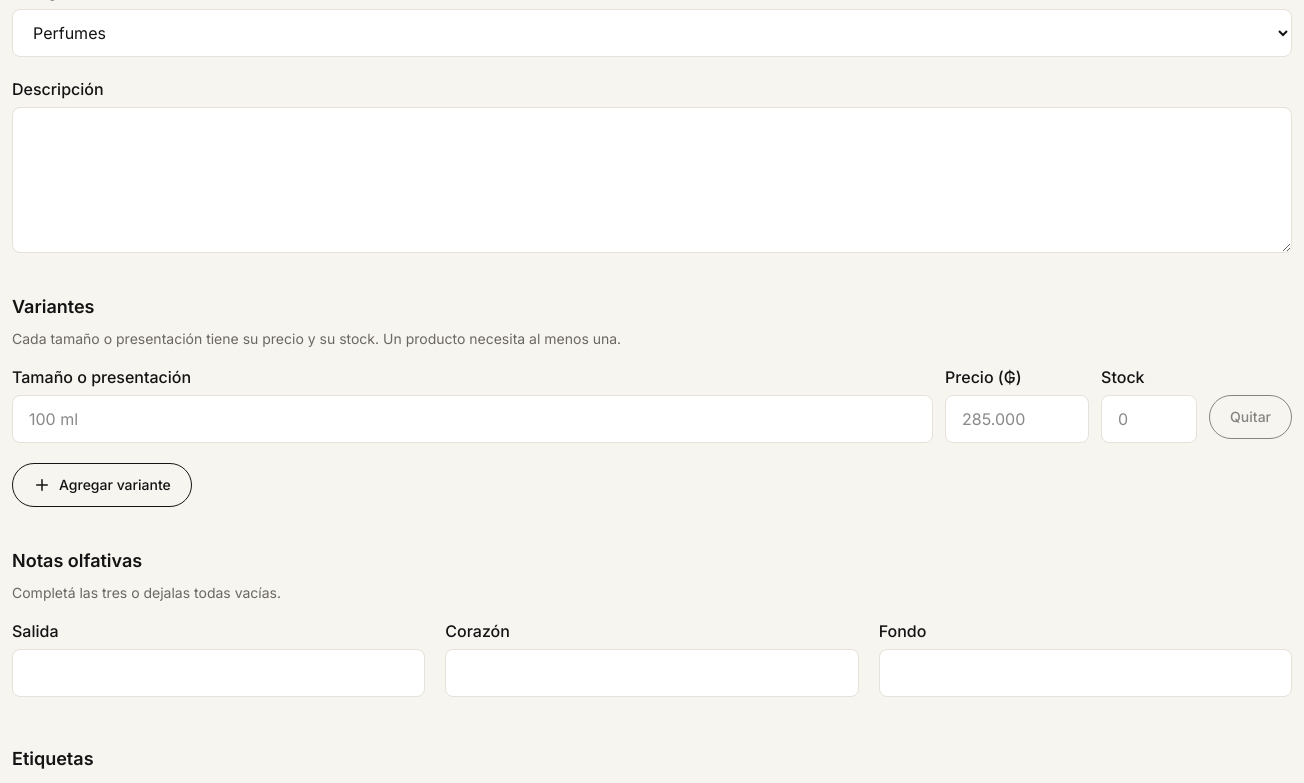
Test case: ProductForm › normaliza el precio con puntos al salir del campo
(page scrolled)
Type "285000" into the field labelled "Precio (₲)".
click(1017, 419); type("285000")  # box [945,395,1089,443]
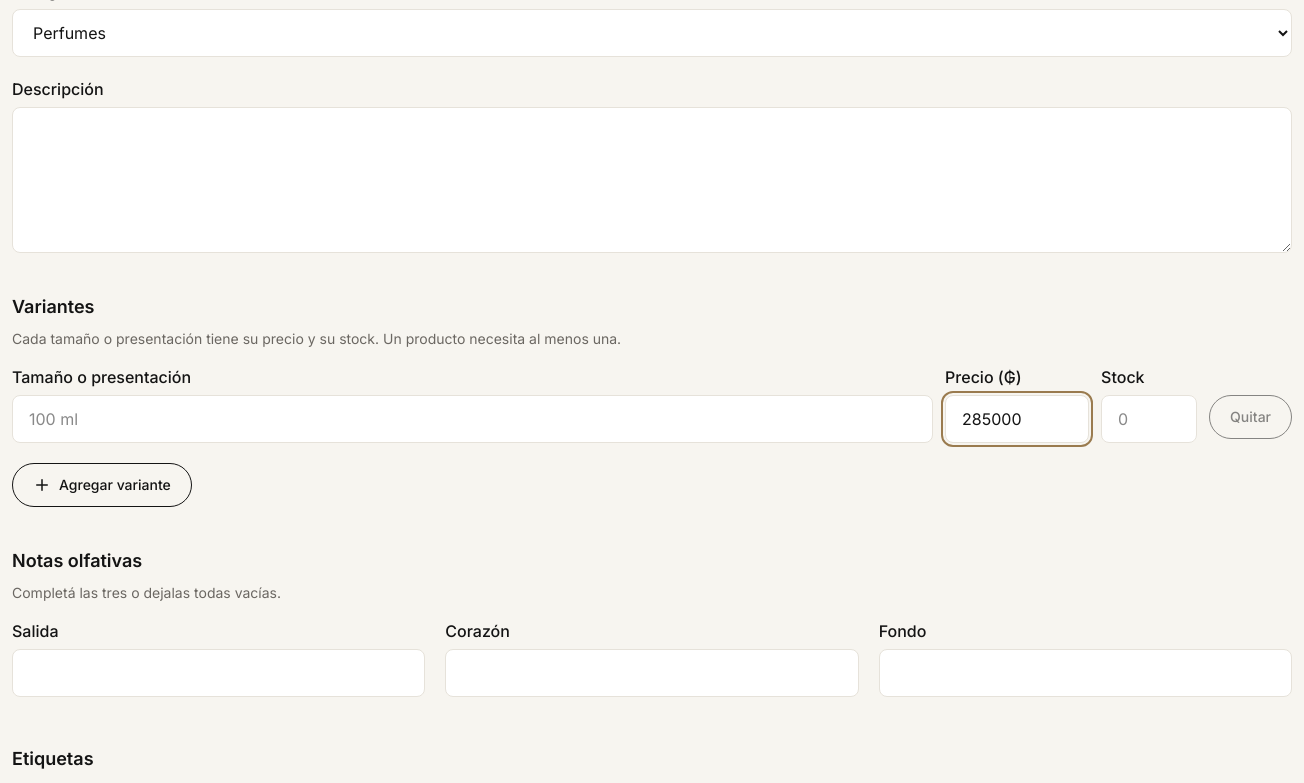
Press Tab
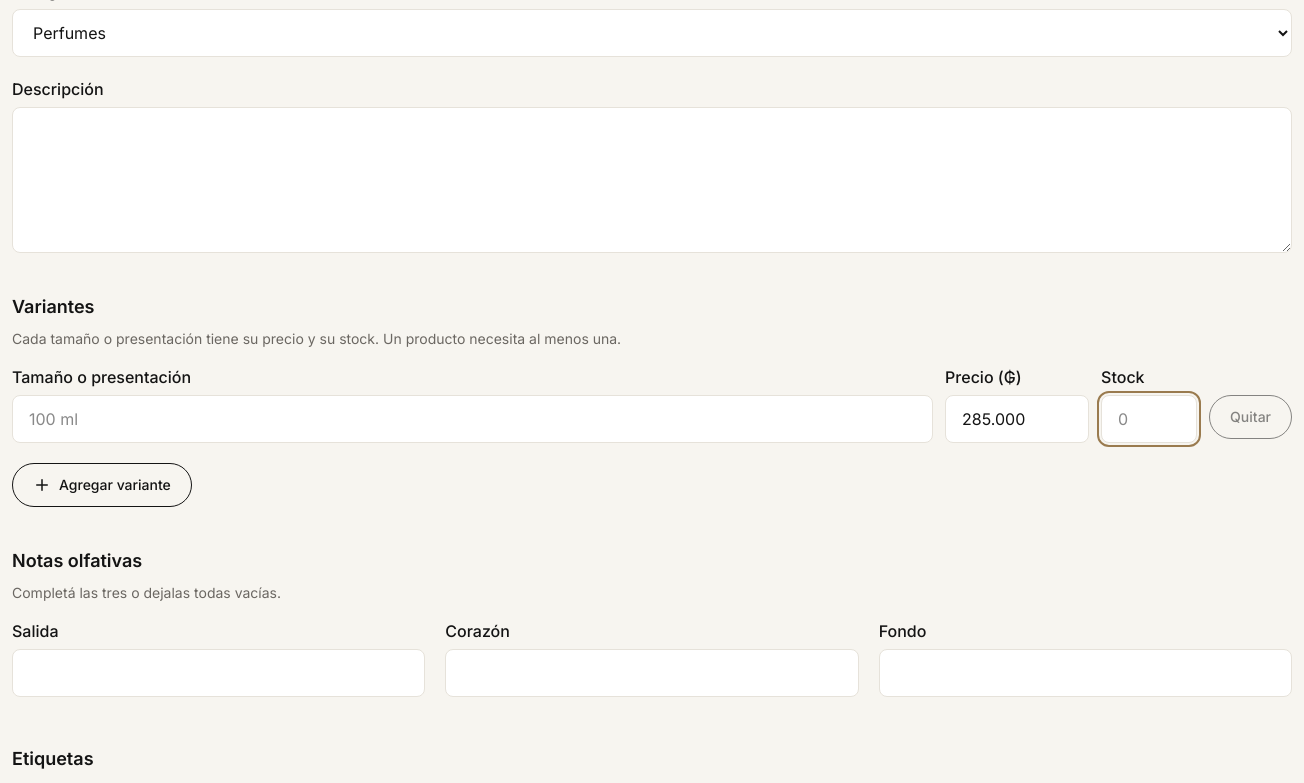
Now the field labelled "Precio (₲)" holds "285.000", box [945,395,1089,443]
